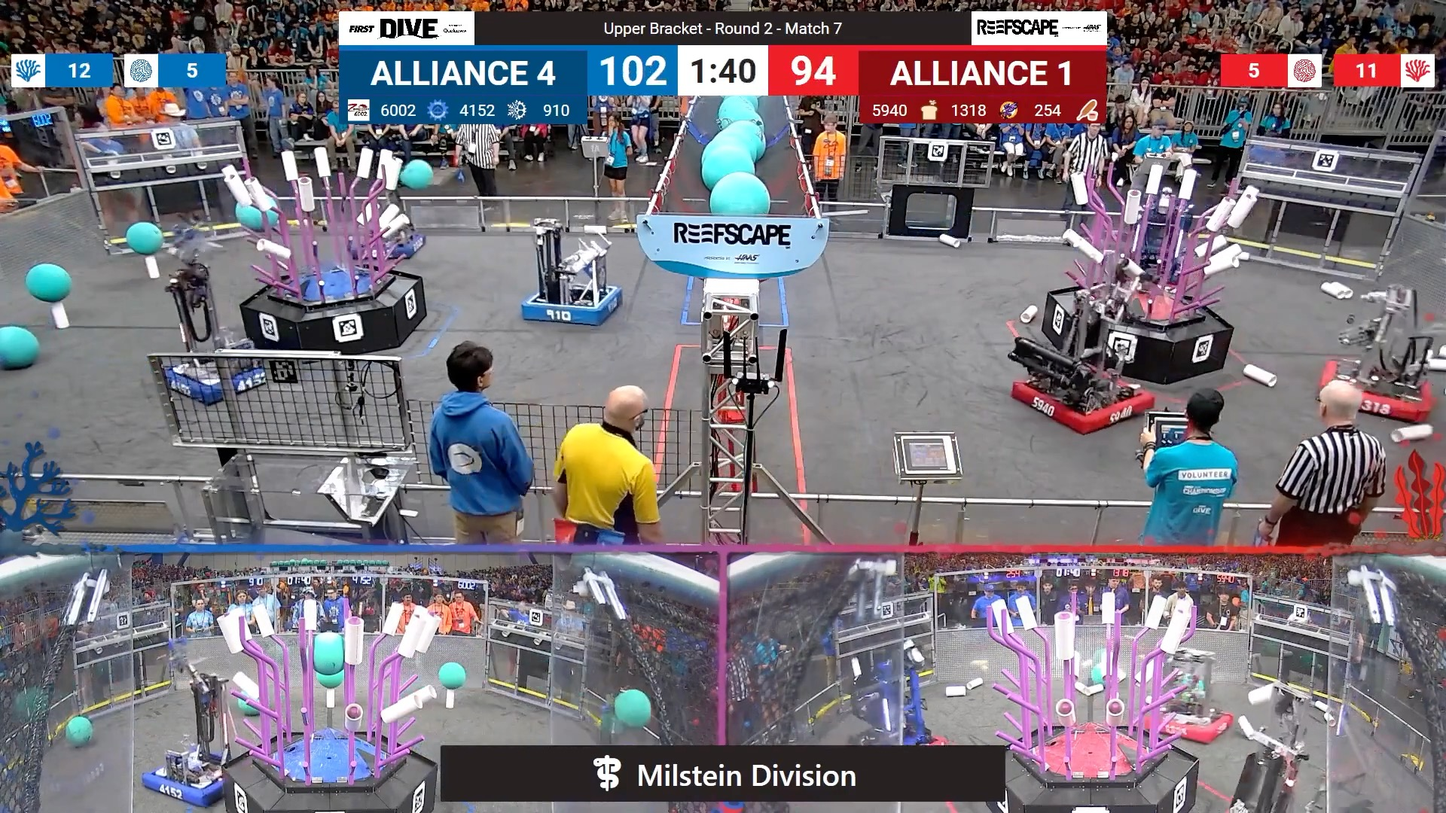bumpers: (1002, 365, 1167, 436), (1312, 357, 1441, 426), (159, 350, 277, 403), (134, 753, 241, 810), (516, 283, 627, 332), (1140, 702, 1239, 742), (351, 231, 435, 266), (853, 727, 949, 750)
